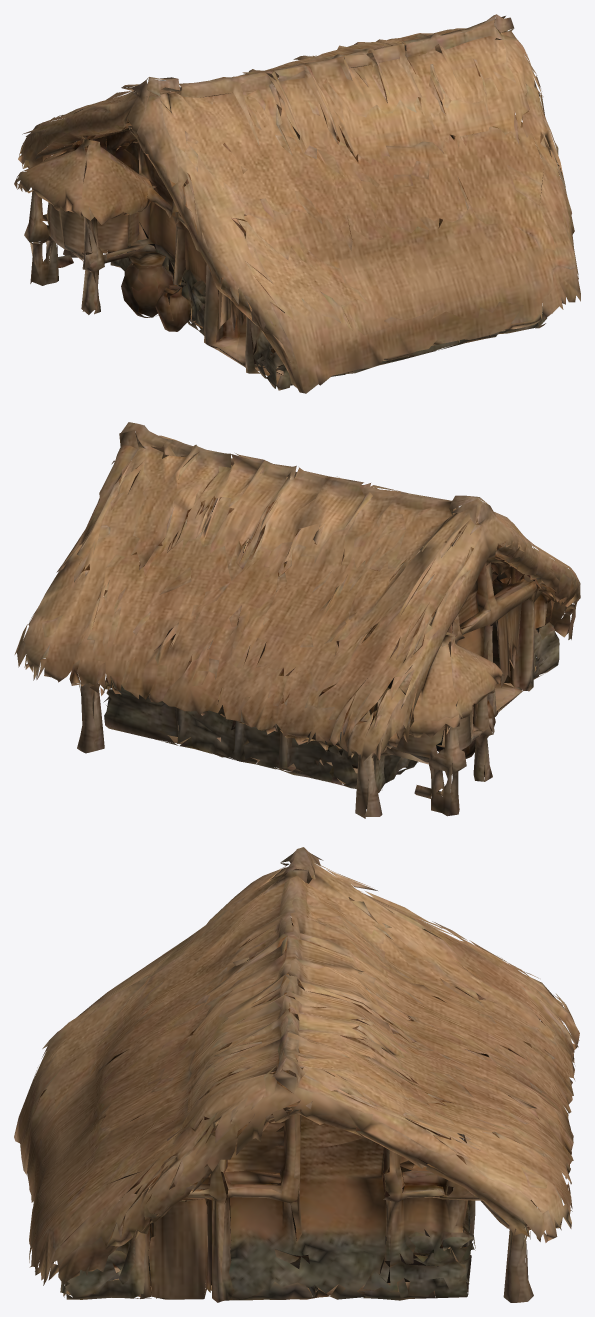
Rendered from farm_mid.glb.
The picture shows the model from 3 angles, top to bottom: view 1: azimuth 30°, elevation 25°; view 2: azimuth 150°, elevation 25°; view 3: azimuth 270°, elevation 25°; orthographic projection. The views are drawn at different scales.
Parts seen in each view (by area): view 1: model; view 2: model; view 3: model.
Boxes of the visible parts, <box> form: model: <box>14,14,580,393</box>; model: <box>14,422,580,818</box>; model: <box>14,847,579,1302</box>.
Size of the model in its own units: 0.9778 by 0.5572 by 0.9847.
1 material, 1 textured.
